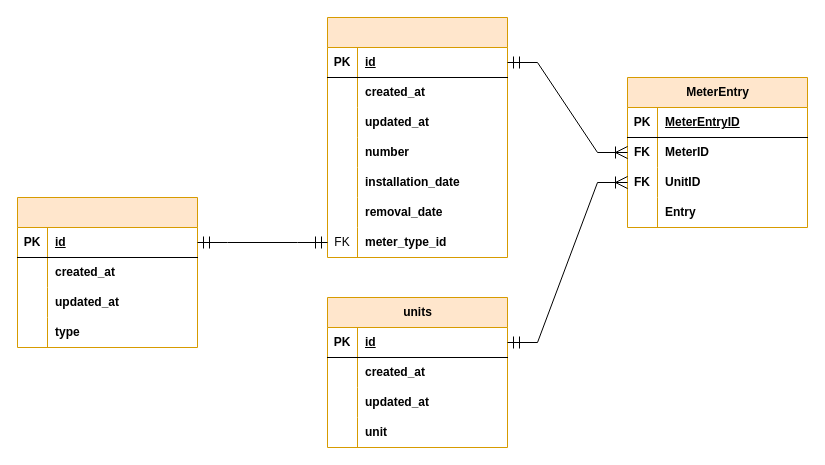
Image size: 825x465. Some labels were removed from this diagram. The box of each missing label's shape, as (x1, y1, x2, y2) in pixels:
meter_types: (16, 196, 198, 348)
meters: (326, 16, 508, 258)
